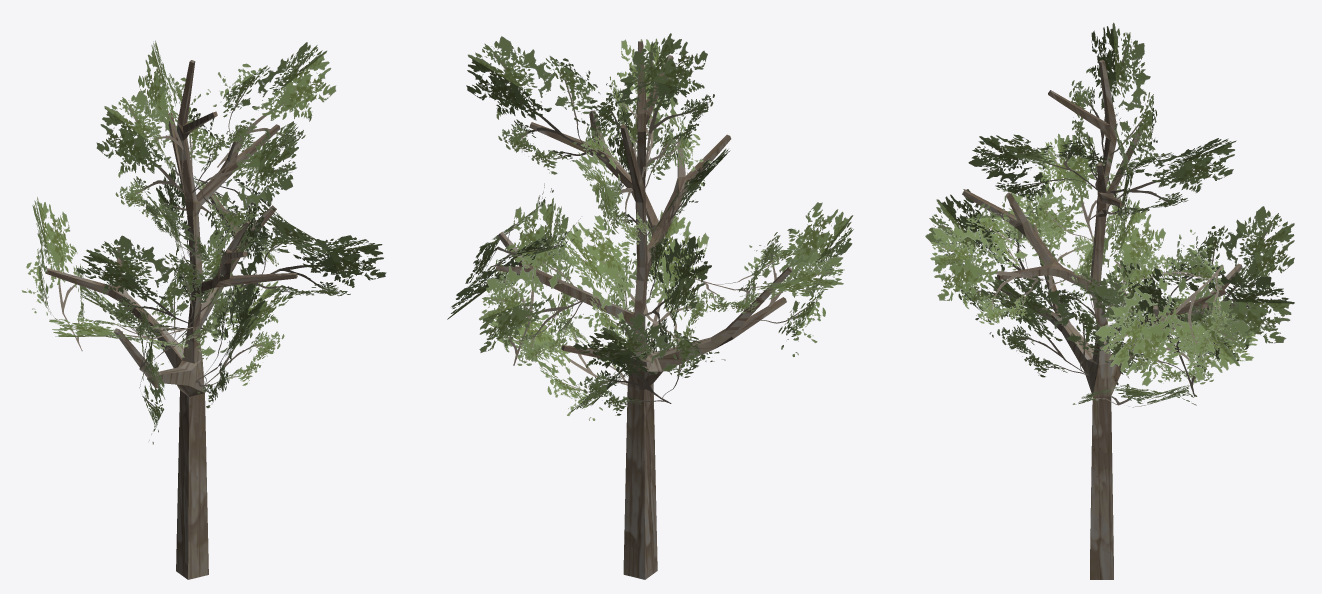
Rendered from arbol_detalle .fbx.
The picture shows the model from 3 angles, left to right: view 1: azimuth 30°, elevation 25°; view 2: azimuth 150°, elevation 25°; view 3: azimuth 270°, elevation 25°; orthographic projection. The views are drawn at different scales.
Parts seen in each view (by area): view 1: Plane.008; view 2: Plane.008; view 3: Plane.008.
Boxes of the visible parts, x1,y1,x2,y2 form: Plane.008: (21,40,386,579); Plane.008: (447,33,853,579); Plane.008: (925,22,1294,579).
Size of the model in its own units: 1114 by 1690 by 1137.
2 materials, 2 textured.
